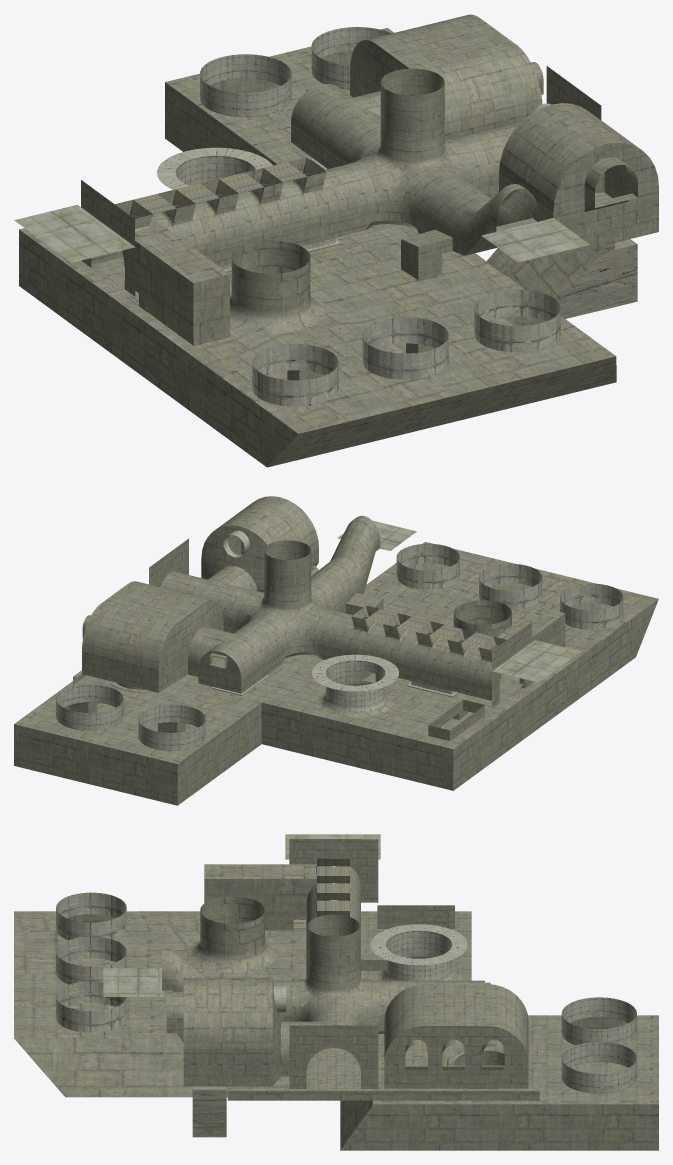
The model's file is SM_Prison_Block00.fbx.
3 renders of one model, top to bottom at view 1: azimuth 30°, elevation 25°; view 2: azimuth 150°, elevation 25°; view 3: azimuth 270°, elevation 25°, orthographic. The views are drawn at different scales.
Parts seen in each view (by area): view 1: SM_Prison_Block00; view 2: SM_Prison_Block00; view 3: SM_Prison_Block00.
Part boxes in pixels (x1,y1,x2,y2): SM_Prison_Block00: (14,14,658,467); SM_Prison_Block00: (14,496,658,805); SM_Prison_Block00: (14,834,658,1150).
Size of the model in its own units: 6455 by 2157 by 8084.
